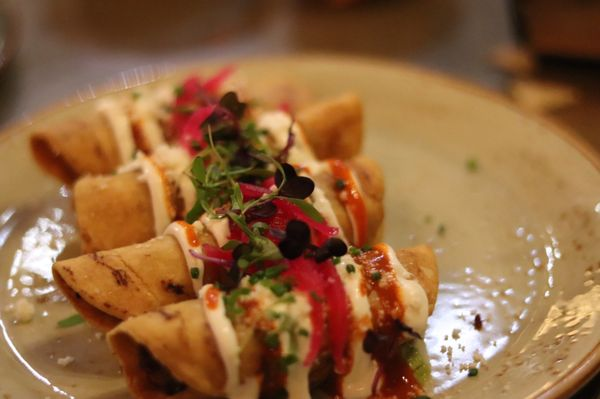sandwich: (9, 61, 444, 395)
